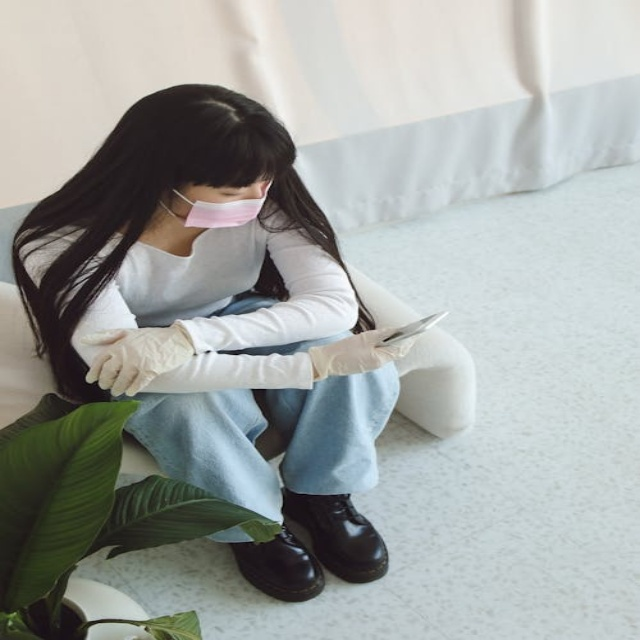Guantes: (81, 322, 199, 396), (307, 326, 417, 381)
Mascara: (169, 182, 272, 228)
Sin_gafas: (186, 180, 273, 203)
